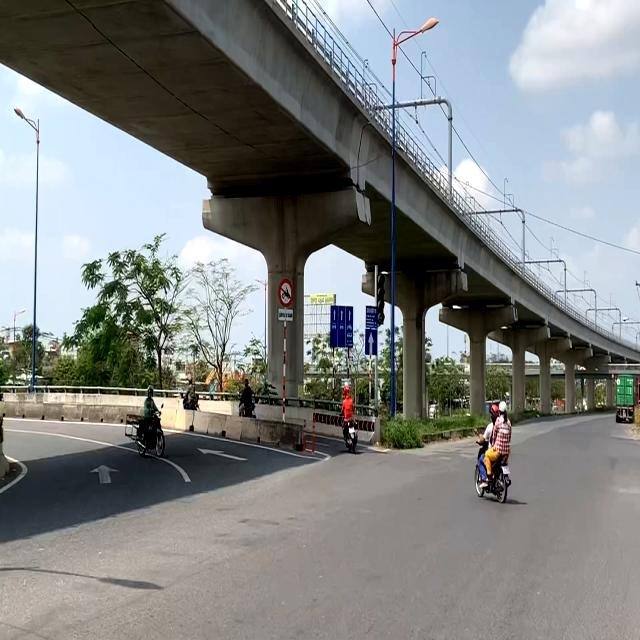Duong mot chieu: (366, 329, 378, 355)
